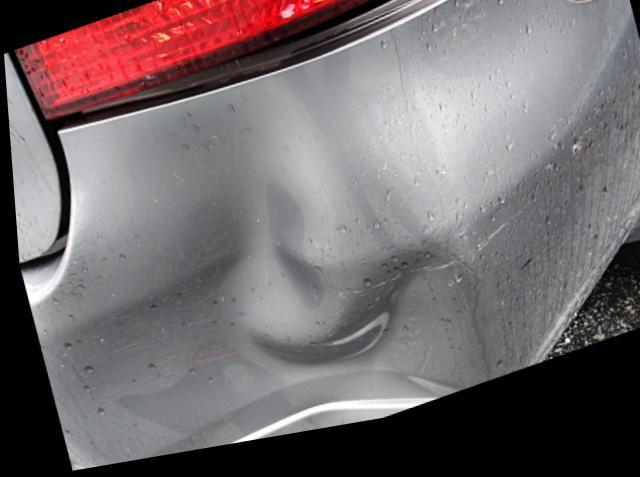dent: (64, 116, 474, 466)
